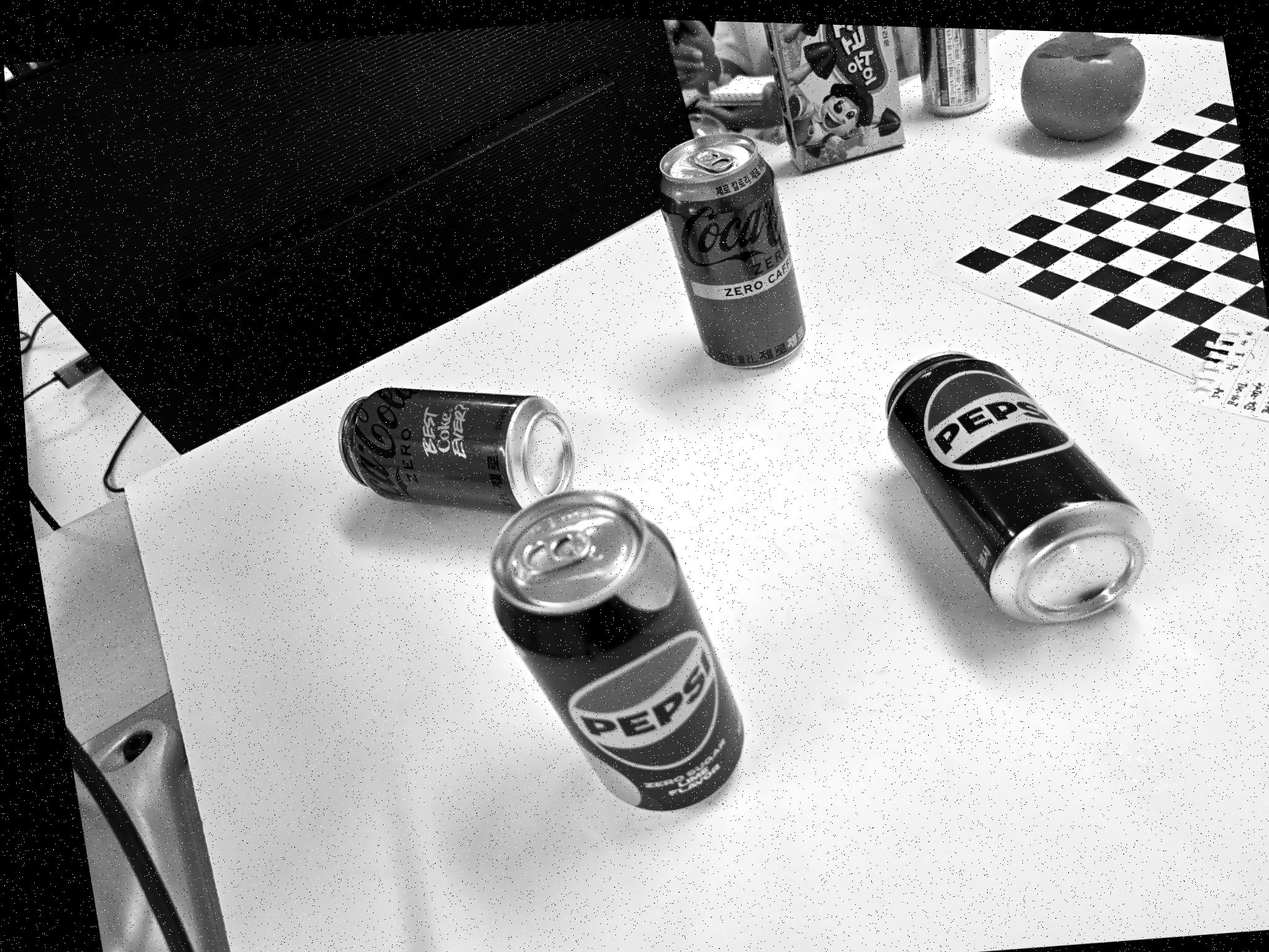can_coke_decaf: (659, 133, 805, 368)
can_coke_zero: (338, 387, 574, 512)
can_pepsi: (885, 353, 1151, 622)
can_pepsi_zero: (490, 490, 744, 811)
